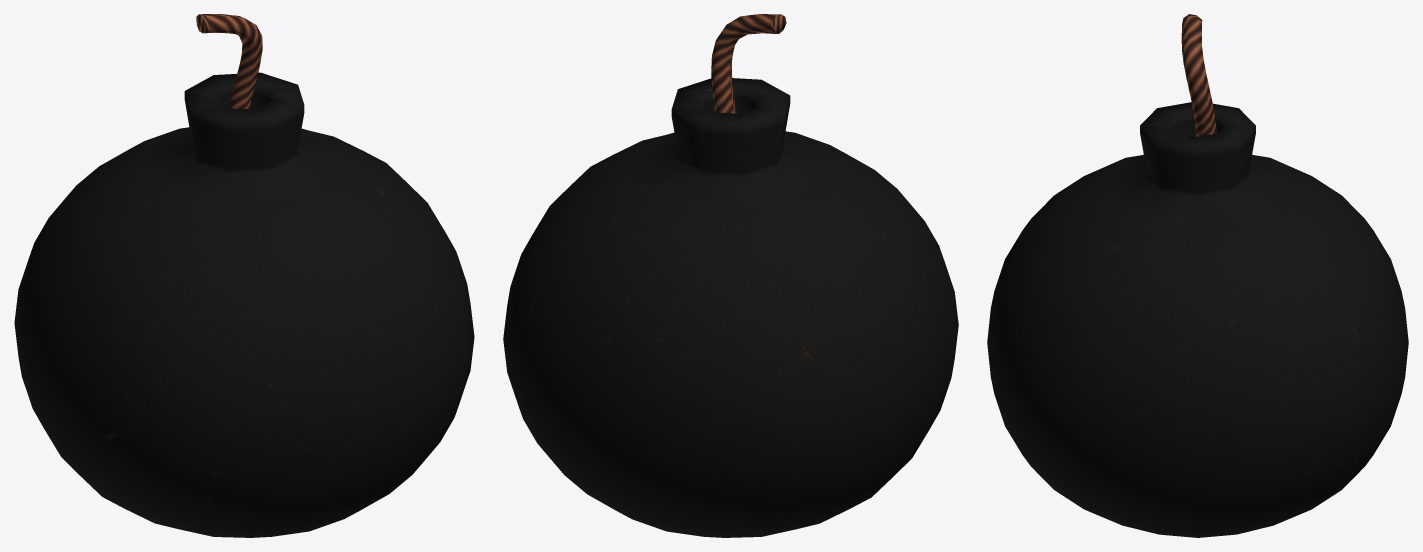
Rendered from bomb.obj.
The picture shows the model from 3 angles, left to right: view 1: azimuth 30°, elevation 25°; view 2: azimuth 150°, elevation 25°; view 3: azimuth 270°, elevation 25°; orthographic projection. The views are drawn at different scales.
Parts seen in each view (by area): view 1: bomb; view 2: bomb; view 3: bomb.
Part boxes in pixels (left/top/right/bottom): bomb: left=14, top=14, right=474, bottom=537; bomb: left=503, top=14, right=958, bottom=537; bomb: left=987, top=14, right=1408, bottom=537.
Size of the model in its own units: 4 by 5 by 4.
Materials: 2 (2 with a texture image).
